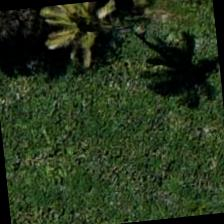Kelapa_Sawit: (68, 0, 166, 78)
